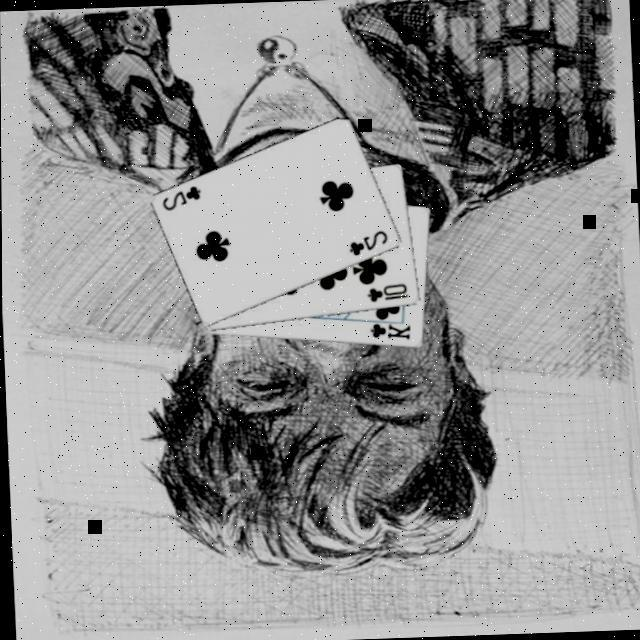10C: (362, 281, 409, 307)
2C: (344, 229, 390, 261), (157, 184, 203, 216)
KC: (362, 316, 411, 346)
